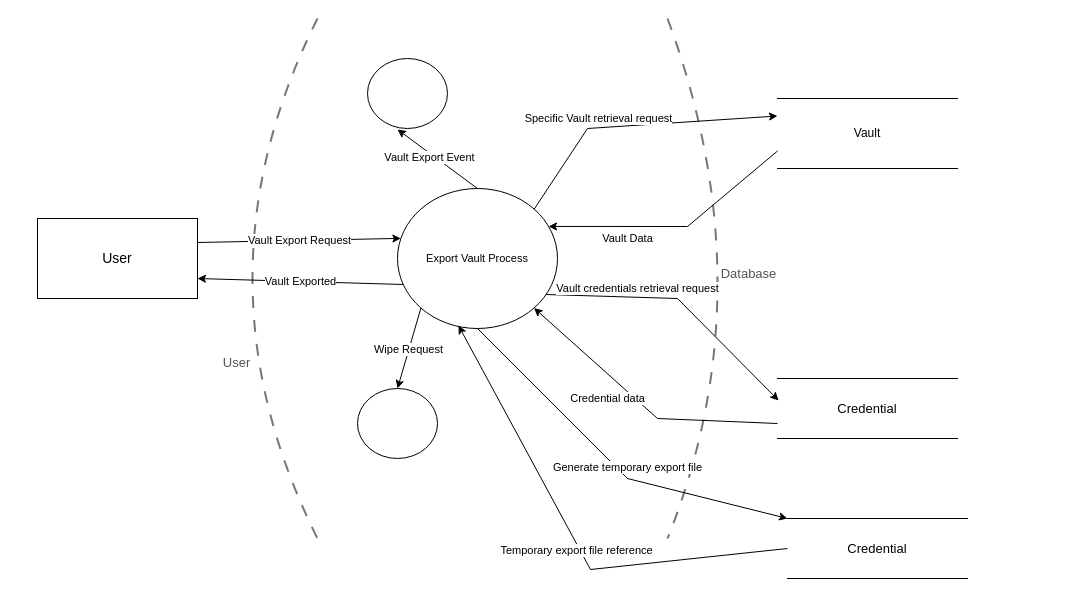
Image size: 1084x615. Some labels were removed from this diagram. Here are the shapes that lost their labels. From the top down, the centre of each, then its label:
the point at 407,93: Write Audit Logs
the point at 397,423: Secure Wipe Temporary Files
